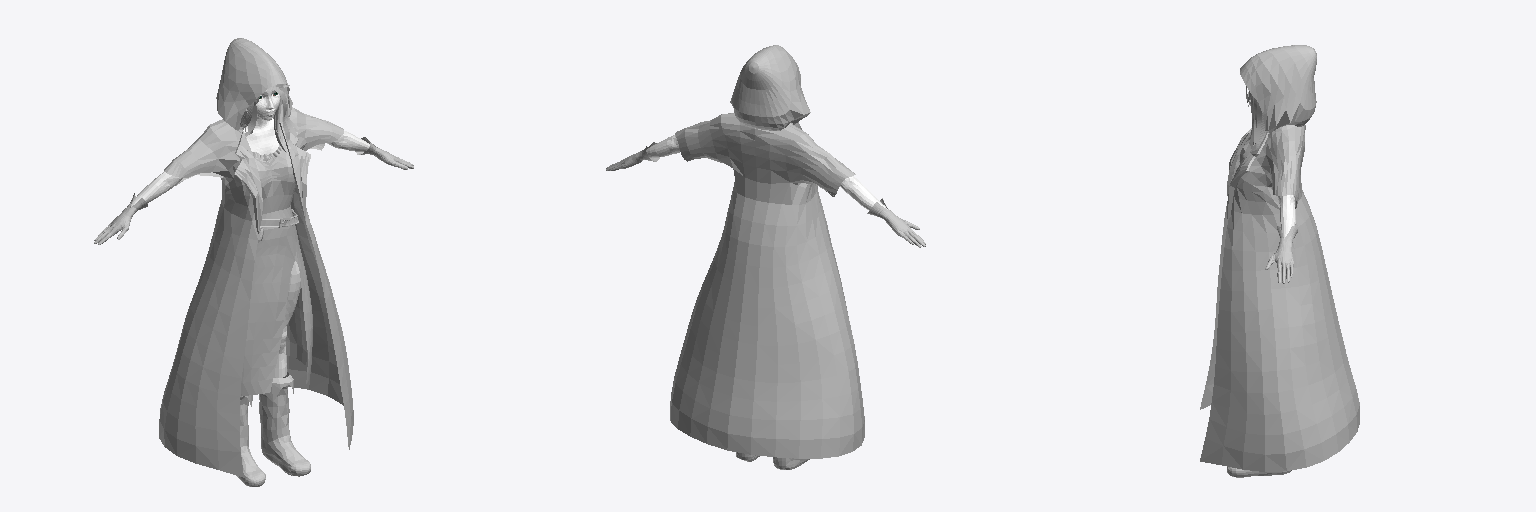
3 views of the same model, side by side, from view 1: azimuth 30°, elevation 25°; view 2: azimuth 150°, elevation 25°; view 3: azimuth 270°, elevation 25° (orthographic).
Parts seen in each view (by area): view 1: cuerpo_low_mesh.019; view 2: cuerpo_low_mesh.019; view 3: cuerpo_low_mesh.019.
Boxes of the visible parts, x1,y1,x2,y2 form: cuerpo_low_mesh.019: [94, 38, 413, 486]; cuerpo_low_mesh.019: [606, 45, 925, 469]; cuerpo_low_mesh.019: [1200, 45, 1359, 477].
Size of the model in its own units: 1.37 by 1.7 by 0.5947.
7 materials, 1 textured.